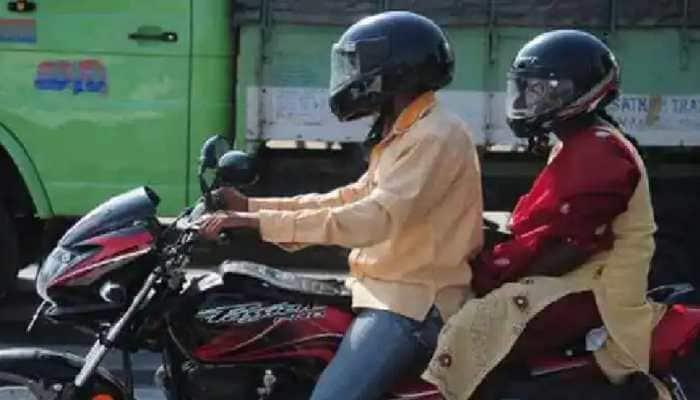Helmet: (329, 11, 454, 145), (510, 29, 621, 153)
